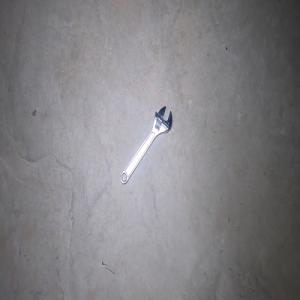Wrench: (120, 106, 172, 184)
